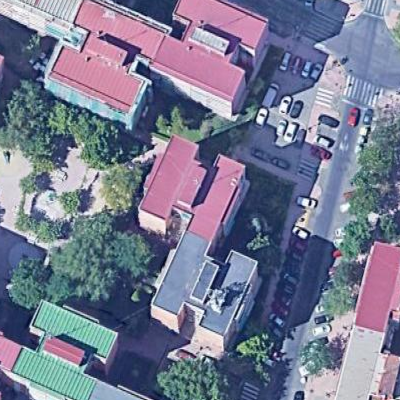tree: (2, 82, 65, 160), (59, 225, 114, 302), (155, 352, 229, 400), (72, 111, 123, 164), (112, 227, 163, 278), (7, 257, 58, 305), (96, 161, 144, 211), (235, 329, 276, 377), (338, 213, 377, 260), (301, 334, 343, 377), (357, 143, 400, 183), (319, 282, 360, 318), (347, 183, 386, 219), (57, 187, 90, 217), (331, 257, 367, 284), (169, 101, 191, 133), (30, 216, 53, 243), (17, 172, 42, 195)
